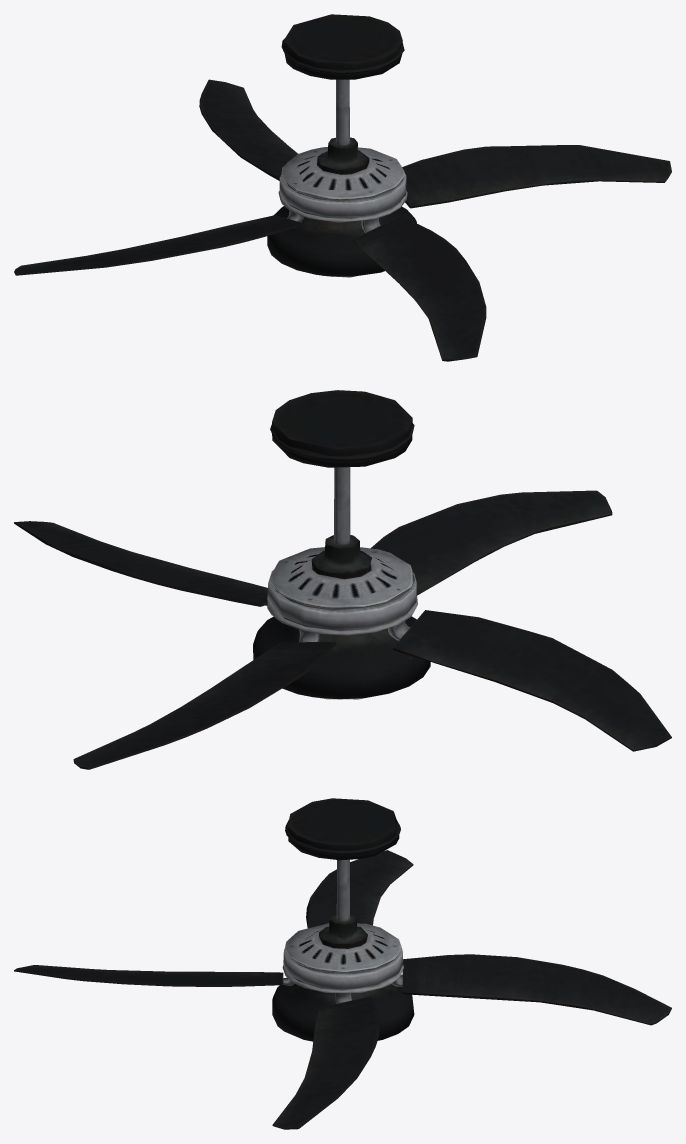
Rendered from ceiling-fan.glb.
3 views of the same model, one above another, from view 1: azimuth 30°, elevation 25°; view 2: azimuth 150°, elevation 25°; view 3: azimuth 270°, elevation 25° (orthographic). The views are drawn at different scales.
Parts seen in each view (by area): view 1: ceiling_fan_blades, ceiling_fan; view 2: ceiling_fan_blades, ceiling_fan; view 3: ceiling_fan_blades, ceiling_fan.
Part boxes in pixels (x1,y1,x2,y2): ceiling_fan_blades: [14, 79, 671, 361]; ceiling_fan: [267, 14, 416, 277]; ceiling_fan_blades: [14, 490, 671, 769]; ceiling_fan: [253, 390, 430, 699]; ceiling_fan_blades: [14, 850, 671, 1129]; ceiling_fan: [272, 798, 414, 1041].
Bounding box in the file's own units: 1.46 × 0.5163 × 1.46.
Materials: 1 (1 with a texture image).
